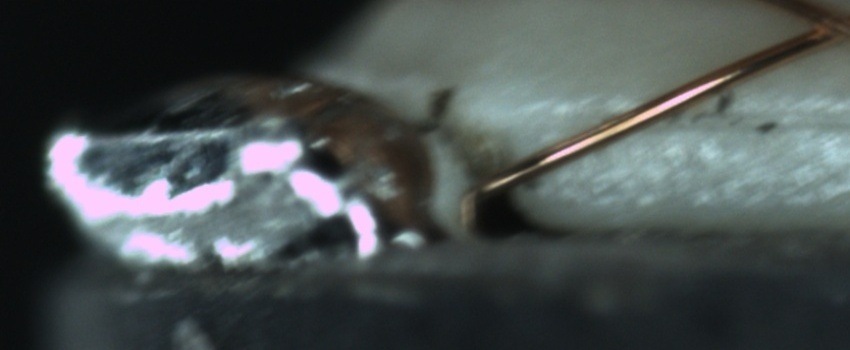CL: (789, 4, 850, 53)
DL: (547, 86, 849, 152)
